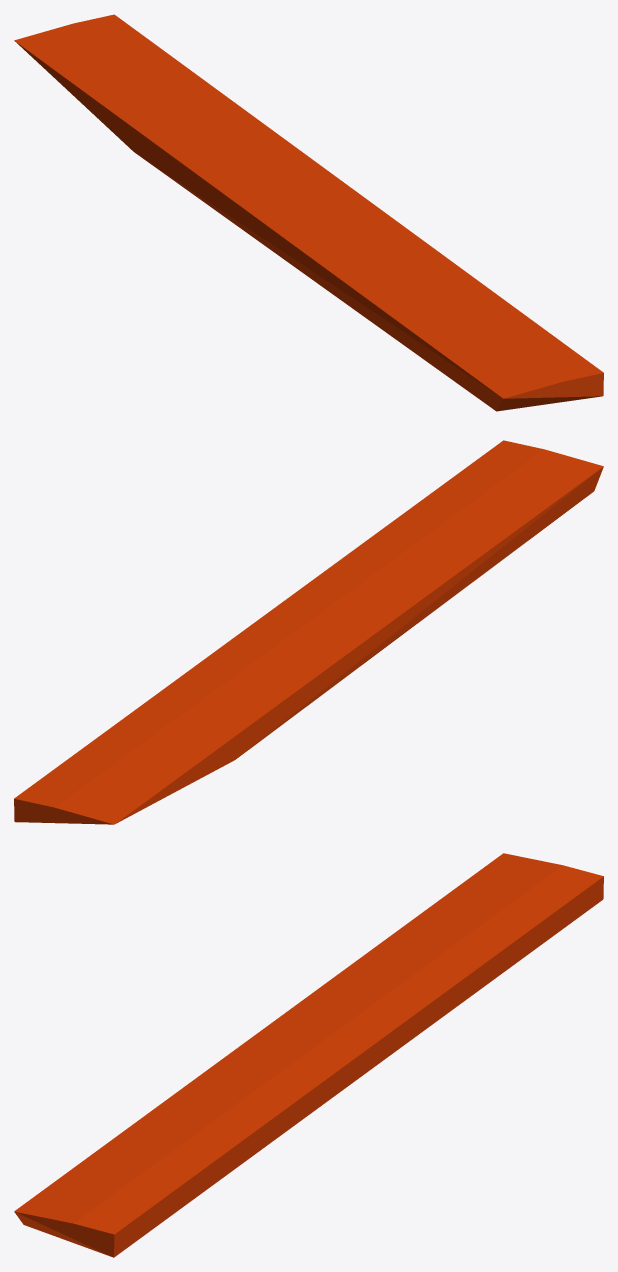
File: garden_table_convex_piece_015.obj
3 views of the same model, one above another, from view 1: azimuth 30°, elevation 25°; view 2: azimuth 150°, elevation 25°; view 3: azimuth 330°, elevation 25° (orthographic).
Size of the model in its own units: 0.0627 by 0.0153 by 0.5262.
